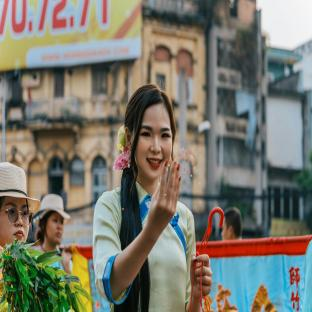Human: (93, 84, 212, 312), (118, 131, 125, 144)
